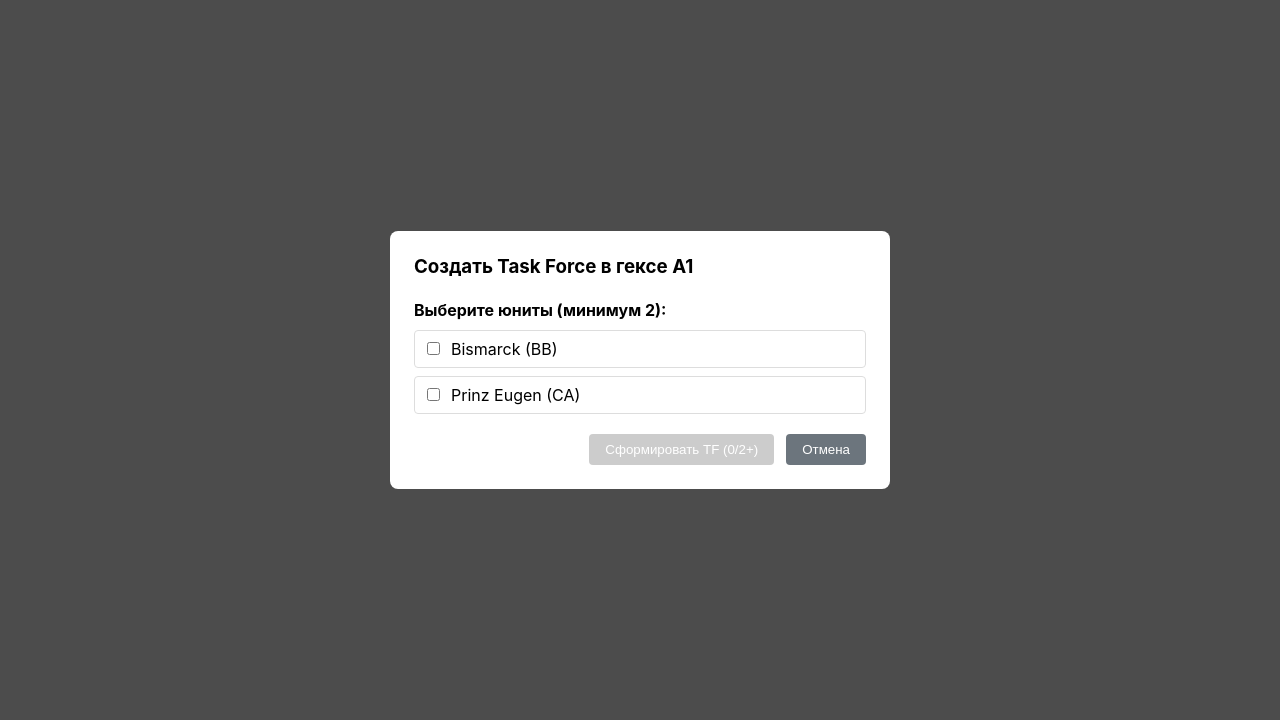
Test case: CreateTaskForceDialog › Edge Cases › should show correct button text with selection count
Click the checkbox labelled "Bismarck (BB)" at (434, 349), box [427,342,440,355]
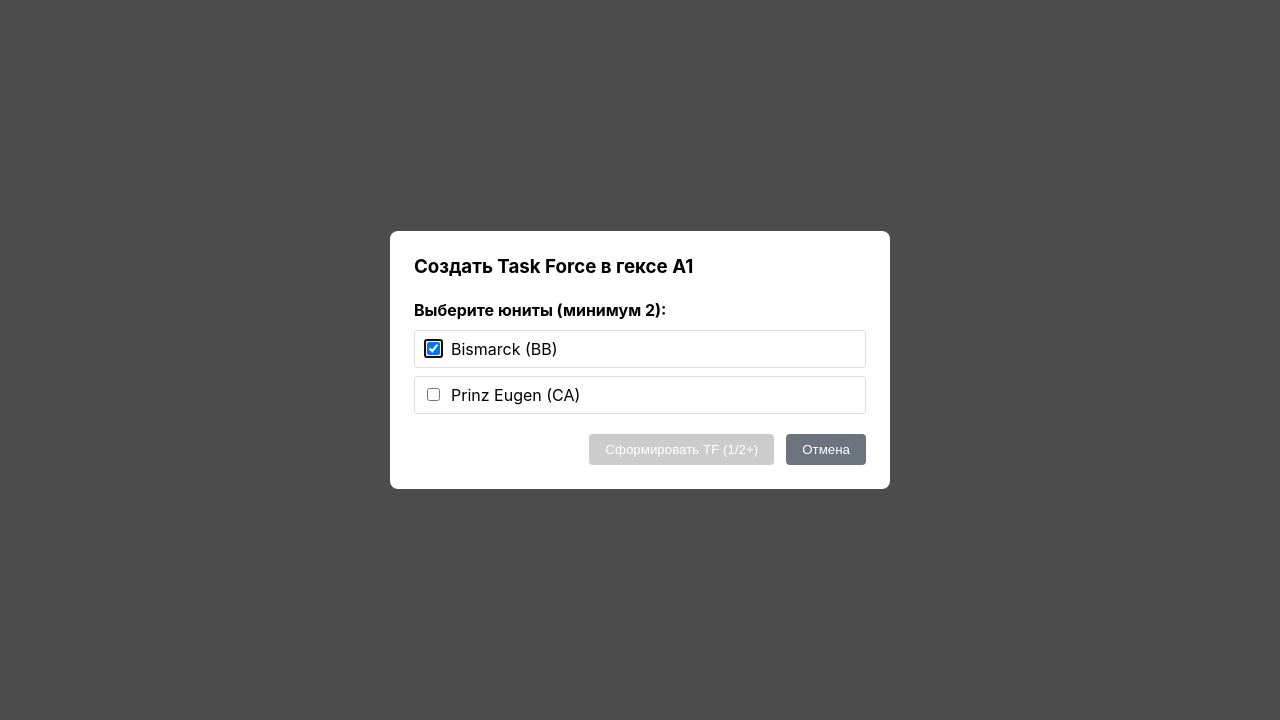
Expected: the button "Сформировать TF (1/2+)" is shown, [589,434,774,465]
